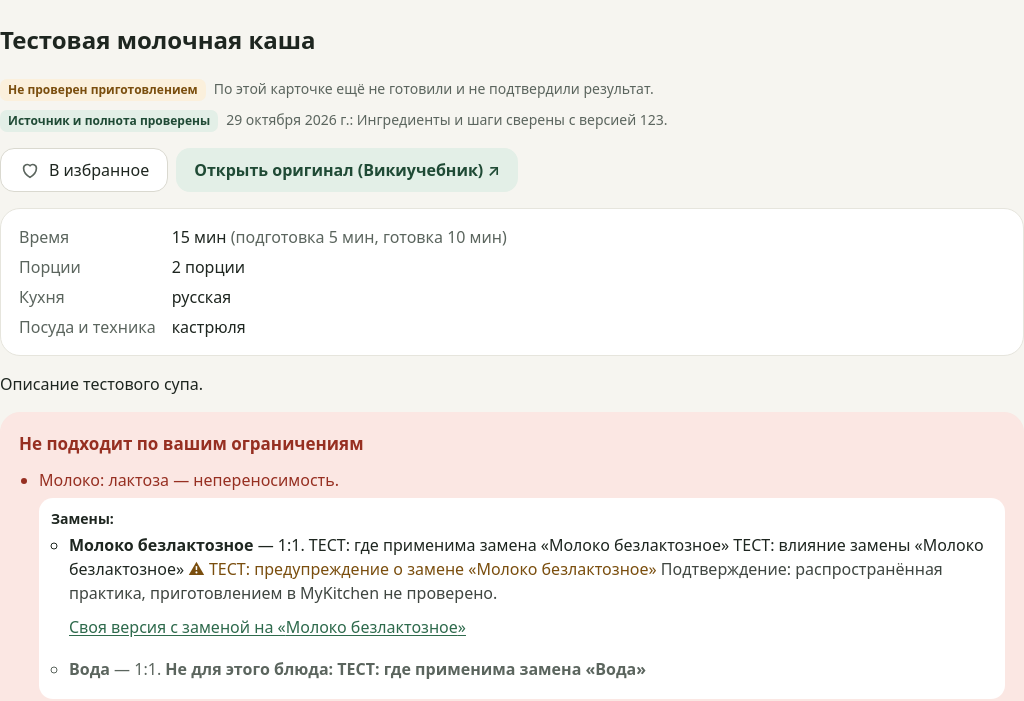
Scenario: замены в рецепте › непереносимость лактозы: безлактозное подходит — своя версия с заменой
Expected: the list item that starts with "Молоко безлактозное" shows "ТЕСТ: где применима замена «Молоко безлактозное»", [309,534,729,556]
Expected: the list item that starts with "Молоко безлактозное" shows "ТЕСТ: влияние замены «Молоко безлактозное»", [69,534,984,580]
Click the button "Своя версия с заменой на «Молоко безлактозное»".
click(268, 627)  # box [69,605,466,649]
(page scrolled)
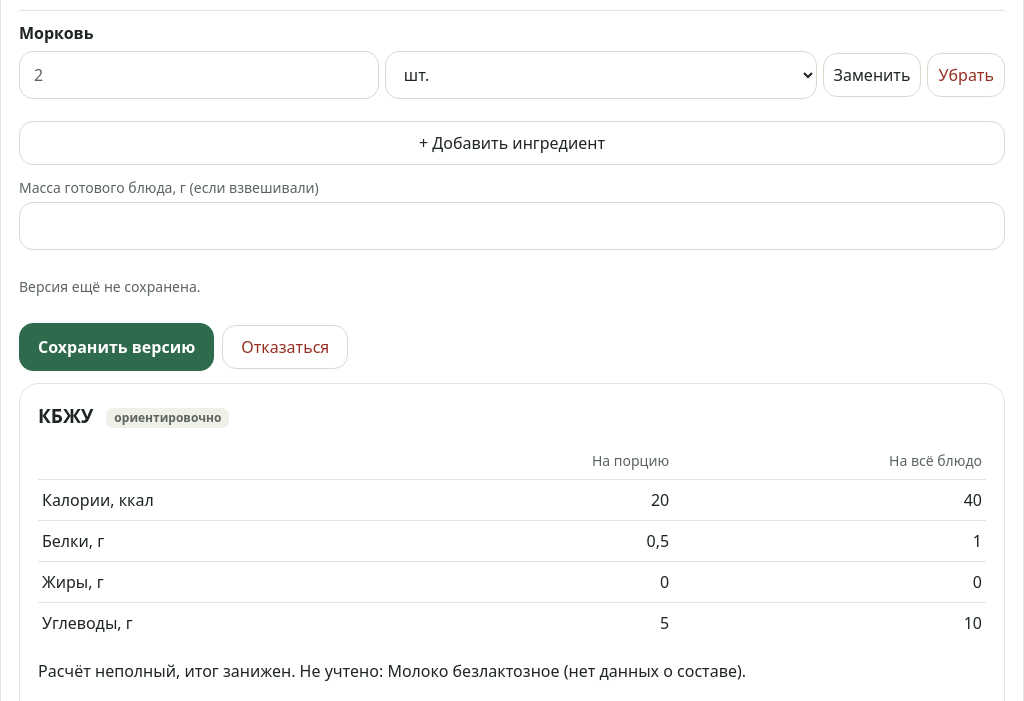
Click the button "Сохранить версию".
click(117, 347)  # box [19,323,214,371]
(page scrolled)
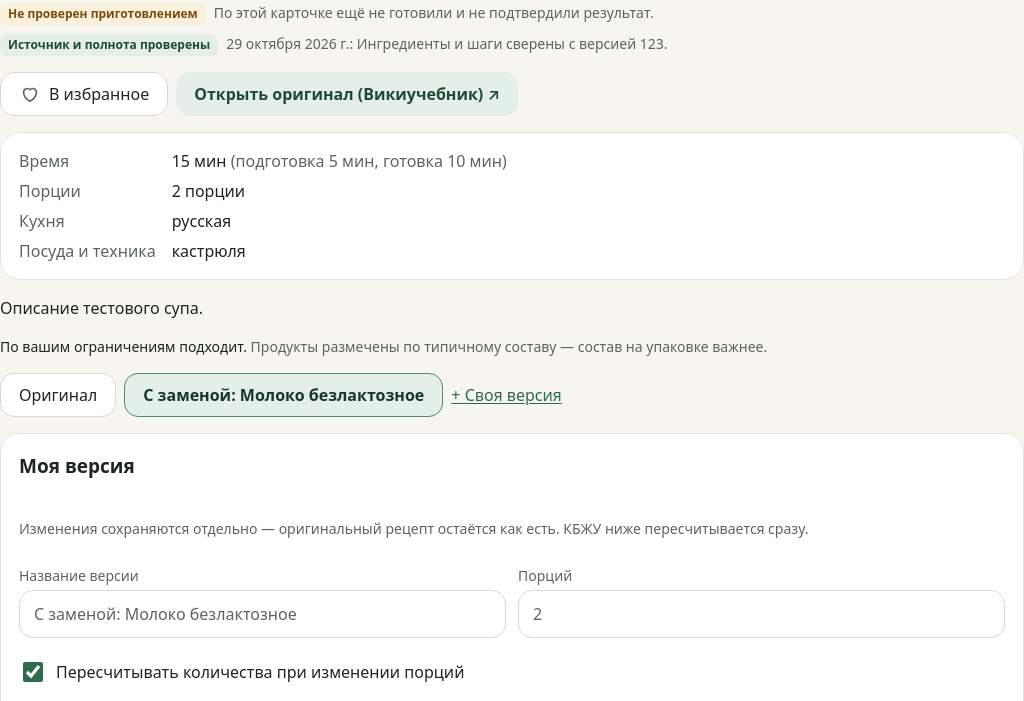
Result: the text "По вашим ограничениям подходит" is shown at [0,337,247,356]
